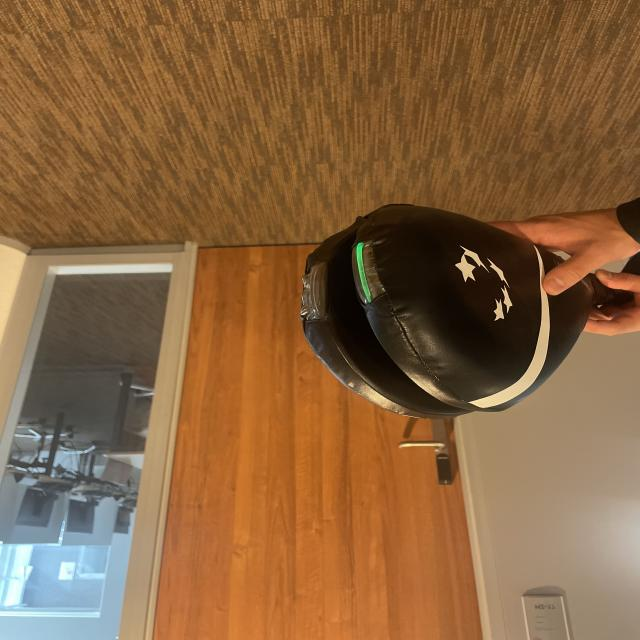paddle: (302, 216, 583, 417)
trigger: (354, 240, 376, 306)
